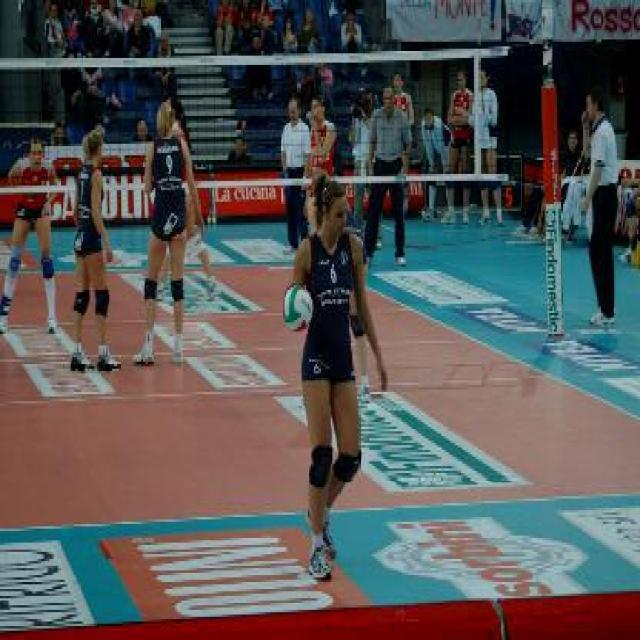volleyball: (282, 284, 312, 332)
